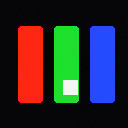1 square: (63, 80, 77, 94)
